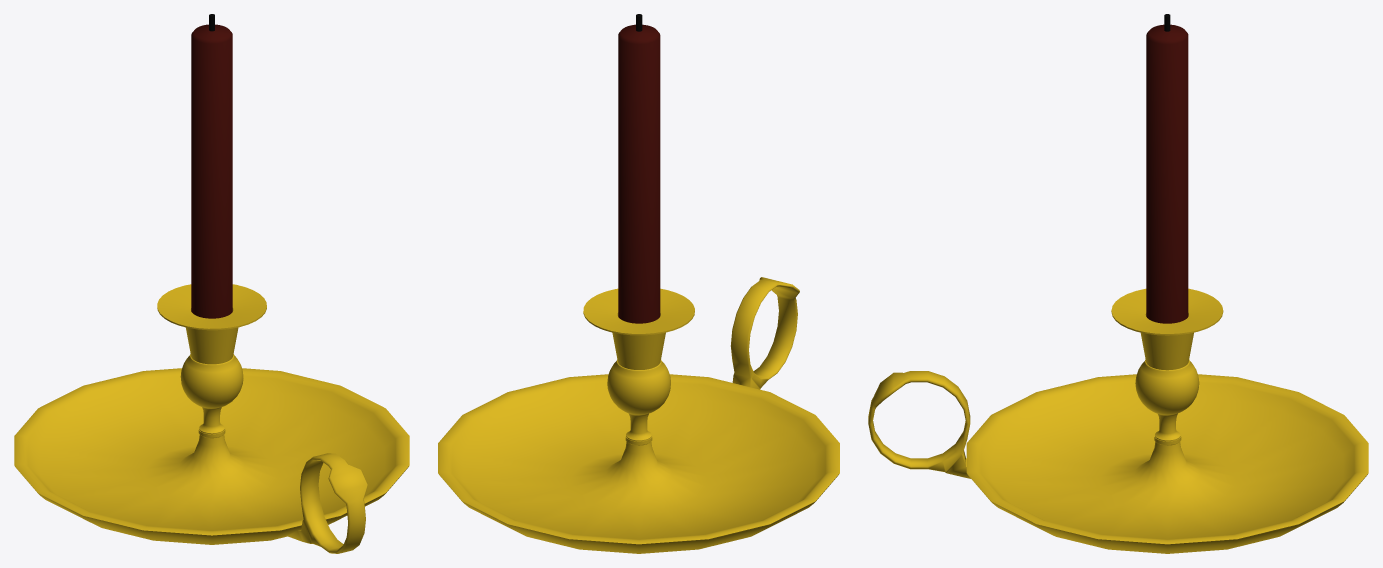
File: Candle2.fbx
3 views of the same model, side by side, from view 1: azimuth 30°, elevation 25°; view 2: azimuth 150°, elevation 25°; view 3: azimuth 270°, elevation 25° (orthographic).
Visible parts, largest first — view 1: Sphere001; view 2: Sphere001; view 3: Sphere001.
Part boxes in pixels (x1=…): Sphere001: x1=14, y1=14, x2=409, y2=553; Sphere001: x1=438, y1=14, x2=839, y2=553; Sphere001: x1=868, y1=14, x2=1368, y2=553.
Bounding box in the file's own units: 19.39 × 25.16 × 23.78.
